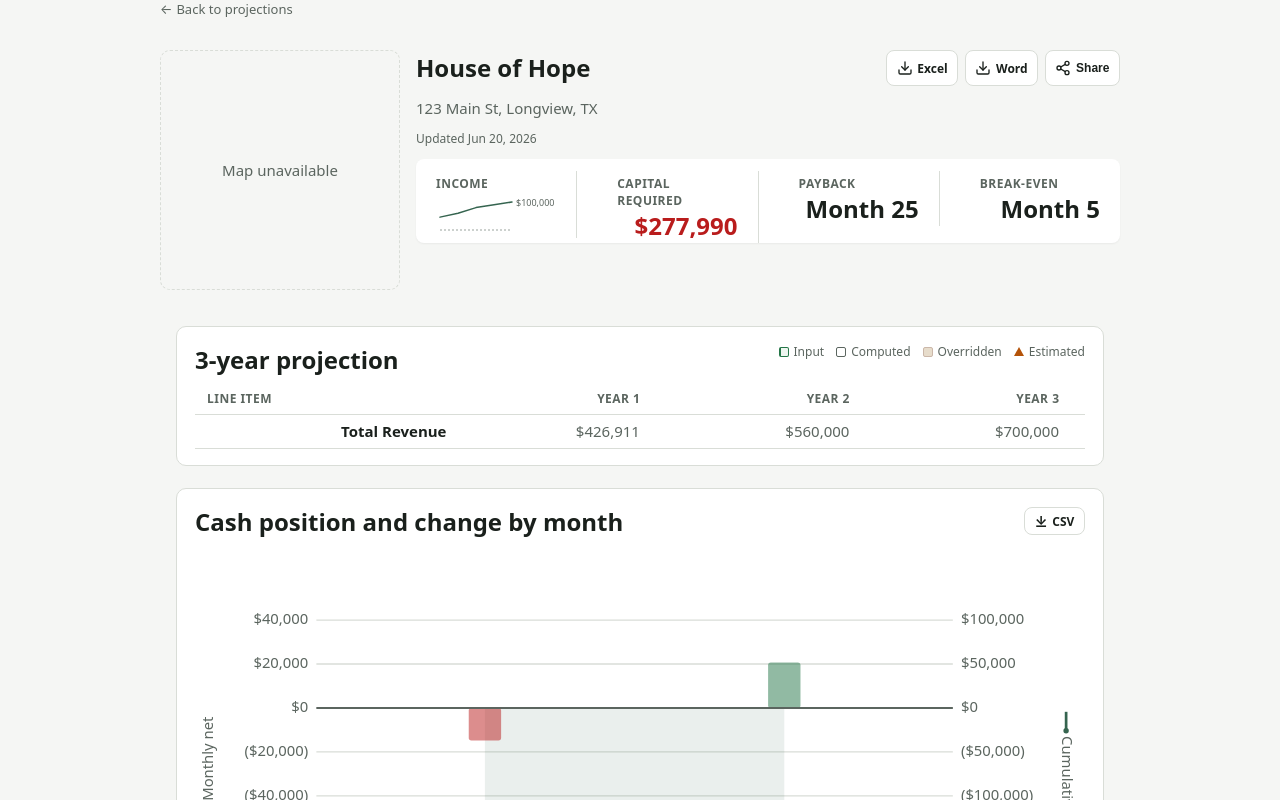
Test: ProjectionDetail — Share affordance (EPIC SHARE) › omits the editable link when no edit token is held on this device
Check: the element with test id "decision-banner" is shown, box [416, 159, 1120, 243]
Step 1. Click the button with test id "share-projection" → coordinates (1082, 68), box [1045, 50, 1120, 86]
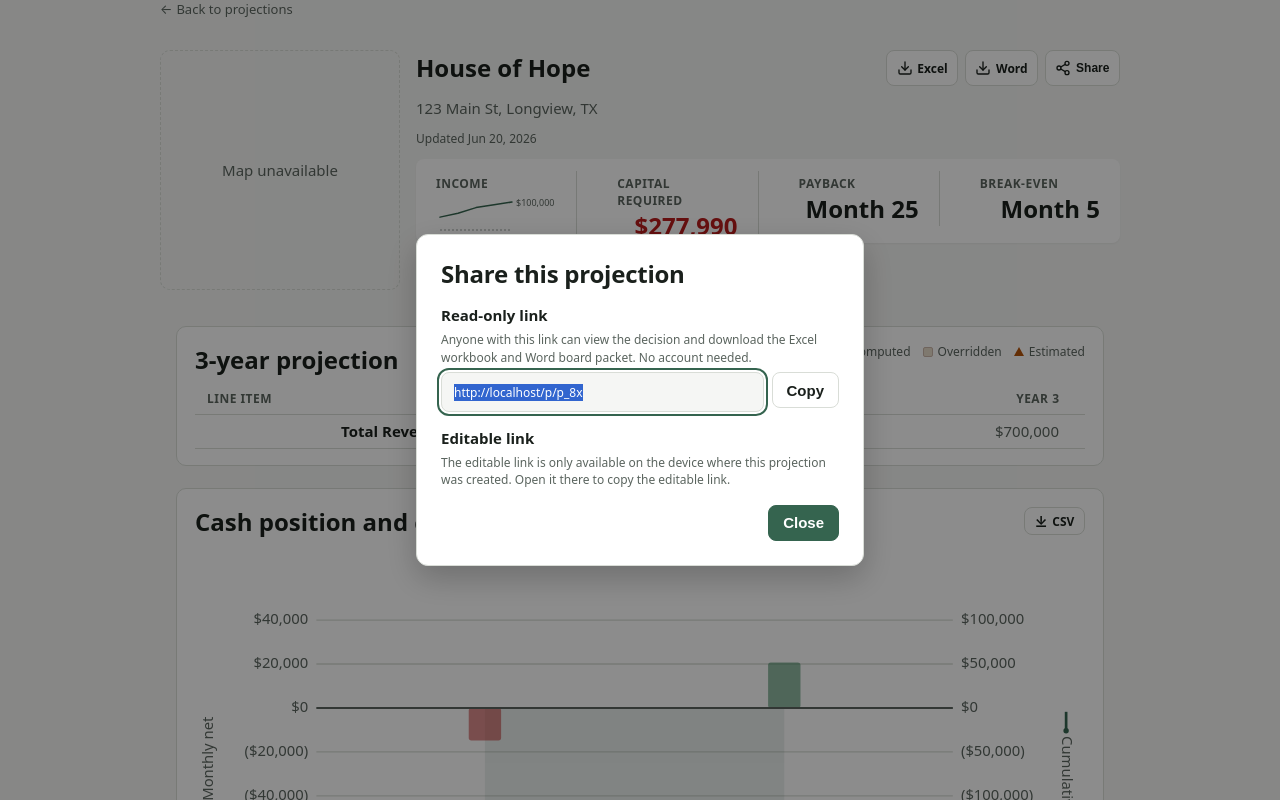
Check: the field with test id "share-readonly-link" is shown, box [441, 372, 764, 412]
Check: the text with test id "share-edit-unavailable" is shown, box [441, 454, 839, 489]
